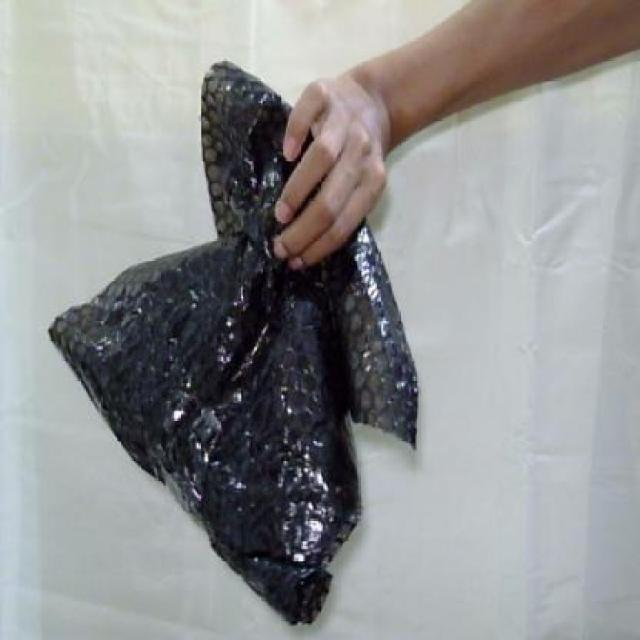Plastic: (34, 47, 431, 630)
